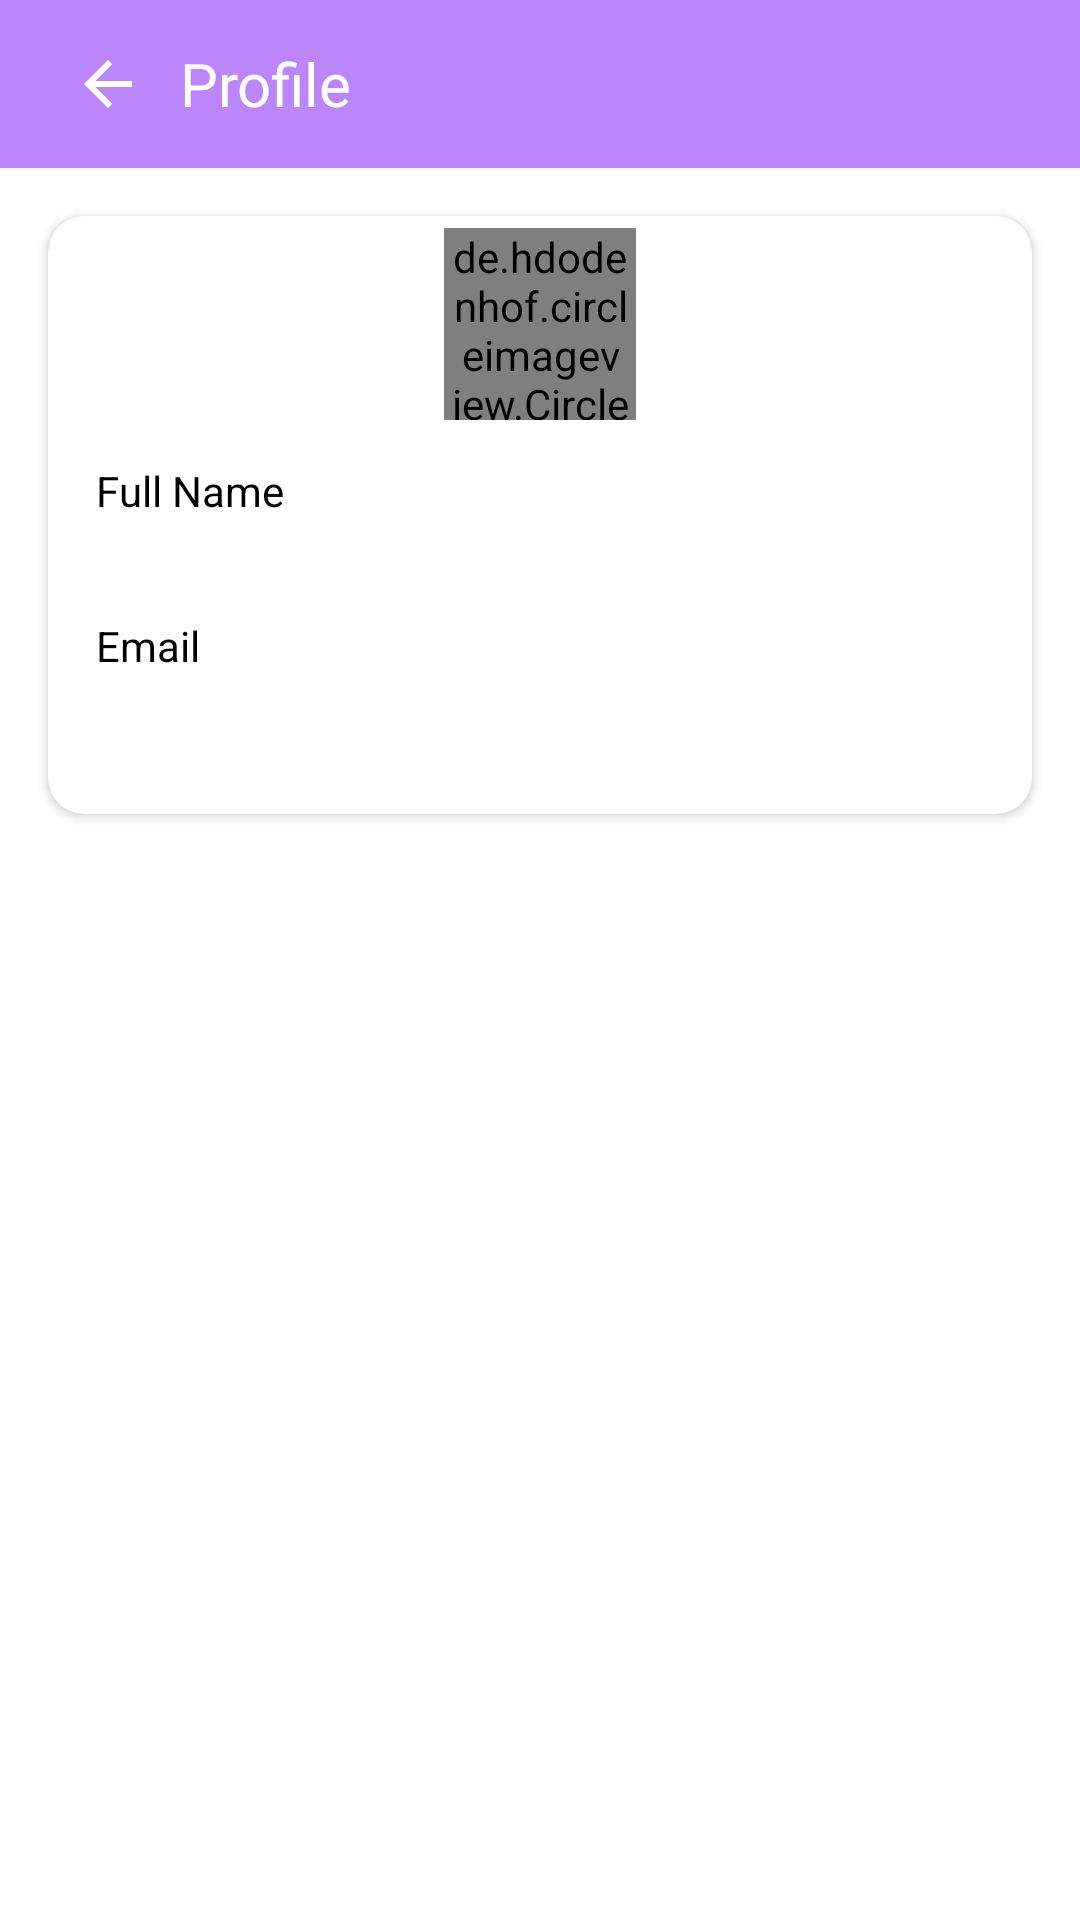

Point at icon controls on the screen. Image size 1080*1920, points as [x,y].
back: [108,84]
